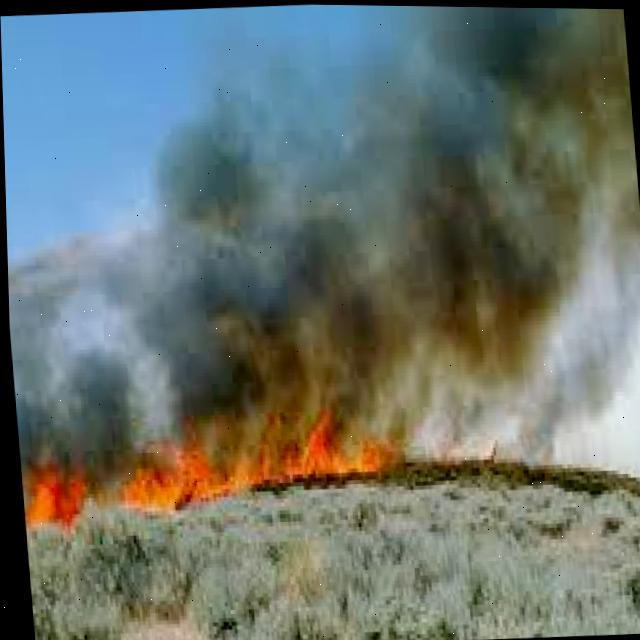fire: (22, 430, 408, 516)
smoke: (192, 102, 640, 428), (7, 301, 219, 442)
